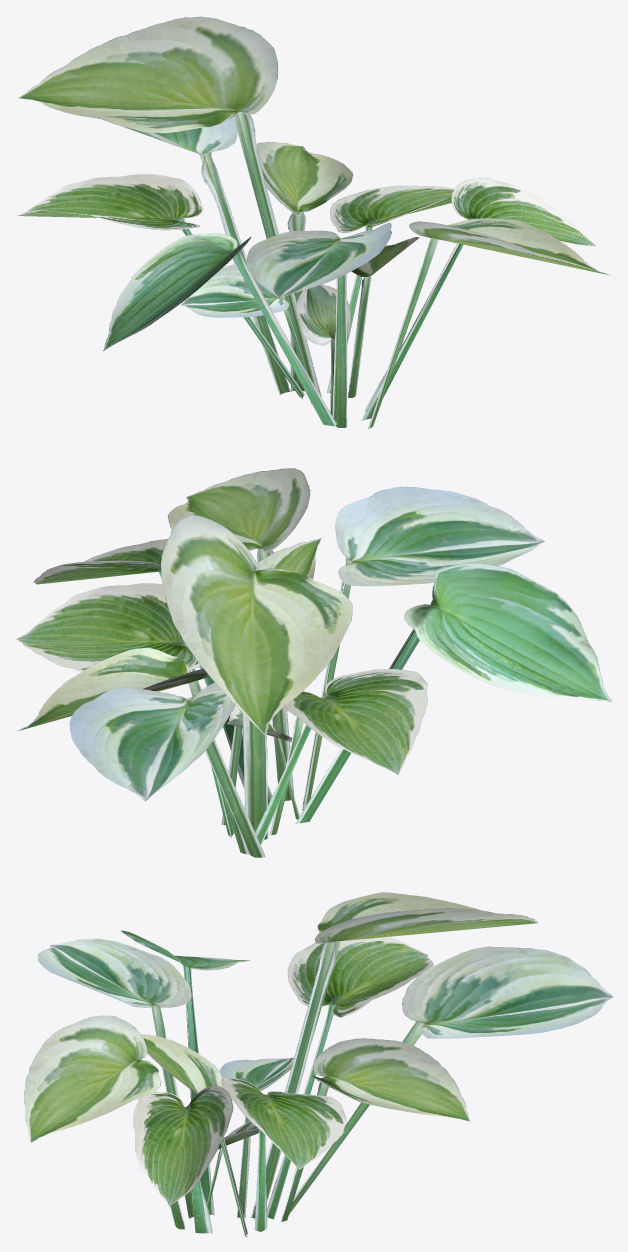
The model's file is plant_small_wg_00AA.fbx.
3 renders of one model, top to bottom at view 1: azimuth 30°, elevation 25°; view 2: azimuth 150°, elevation 25°; view 3: azimuth 270°, elevation 25°, orthographic. The views are drawn at different scales.
Parts seen in each view (by area): view 1: plant_small_wg_00AA; view 2: plant_small_wg_00AA; view 3: plant_small_wg_00AA.
Boxes of the visible parts, x1,y1,x2,y2 form: plant_small_wg_00AA: (17,16,610,428); plant_small_wg_00AA: (16,468,611,857); plant_small_wg_00AA: (24,892,612,1237).
Bounding box in the file's own units: 83.74 × 54.88 × 90.06.
Materials: 1 (1 with a texture image).
